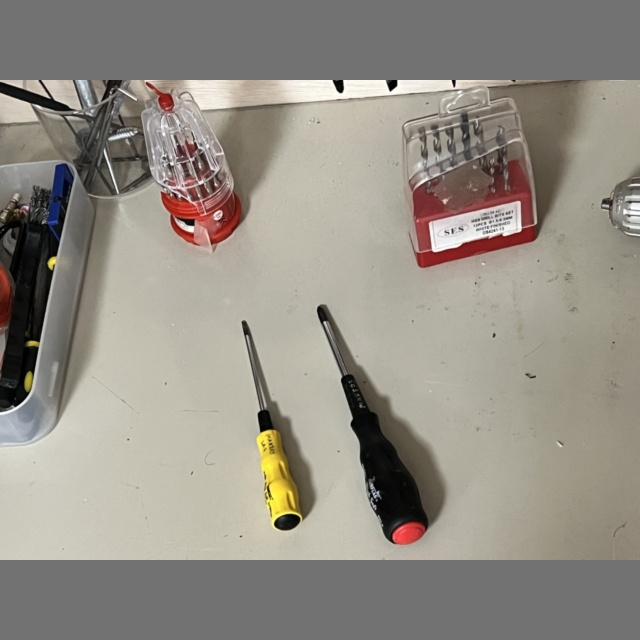drill: (602, 181, 640, 238)
screwdriver: (317, 305, 428, 545), (242, 321, 302, 531)
